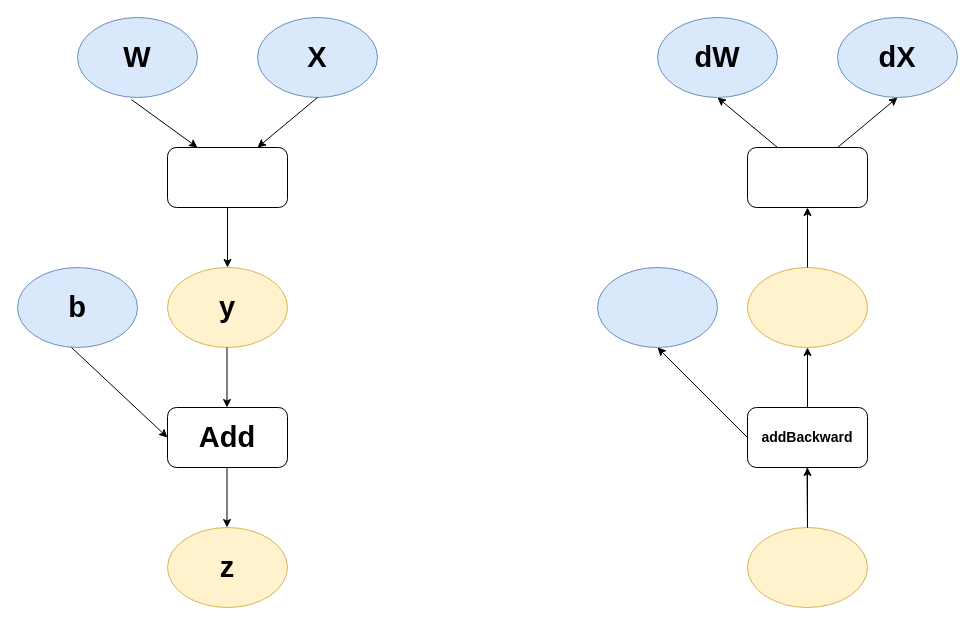
Some shapes in this 975 by 625 pixel diagram are drawn without their labels. Here are the shapes that lost their labels. From the top down, the box of each, then its label:
(166, 146, 288, 208): MUL
(746, 146, 868, 208): mulBackward
(596, 266, 718, 348): db
(746, 266, 868, 348): dy
(746, 526, 868, 608): dz
